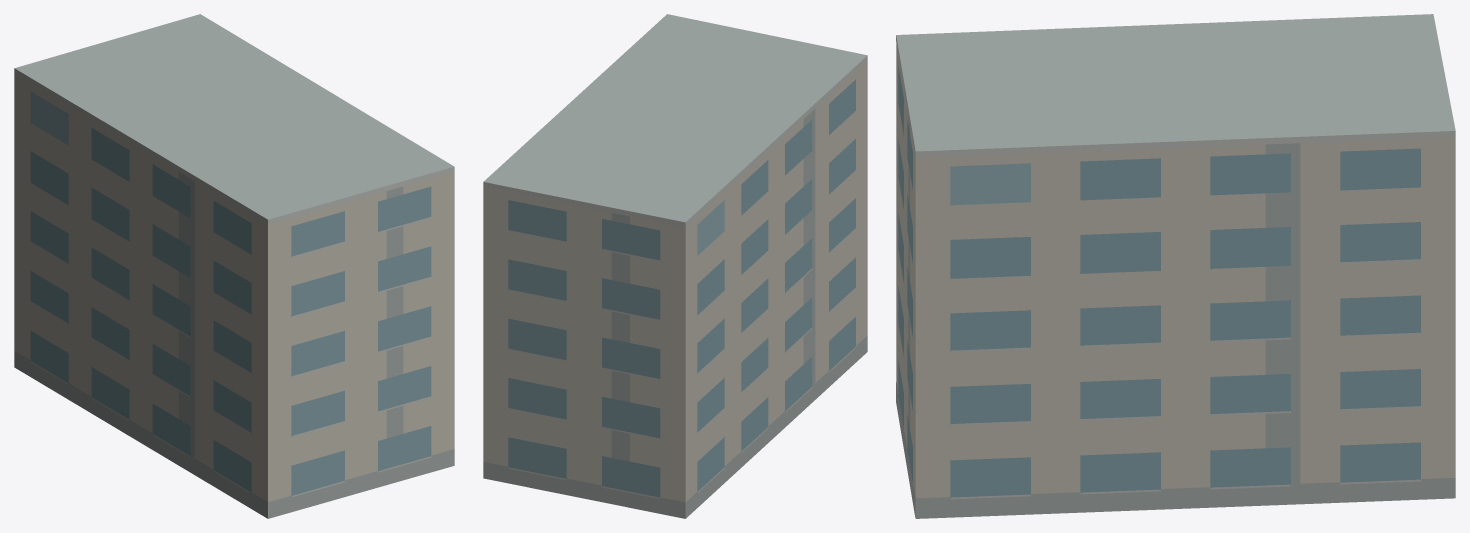
File: survey-upis-32663102.glb
The picture shows the model from 3 angles, left to right: view 1: azimuth 30°, elevation 25°; view 2: azimuth 150°, elevation 25°; view 3: azimuth 270°, elevation 25°; orthographic projection. The views are drawn at different scales.
Parts seen in each view (by area): view 1: survey-upis-32663102.tmp; view 2: survey-upis-32663102.tmp; view 3: survey-upis-32663102.tmp.
Part boxes in pixels (<box>): survey-upis-32663102.tmp: <box>14,14,454,518</box>; survey-upis-32663102.tmp: <box>483,14,867,518</box>; survey-upis-32663102.tmp: <box>896,14,1455,518</box>.
Bounding box in the file's own units: 11.22 × 13.98 × 19.3.
